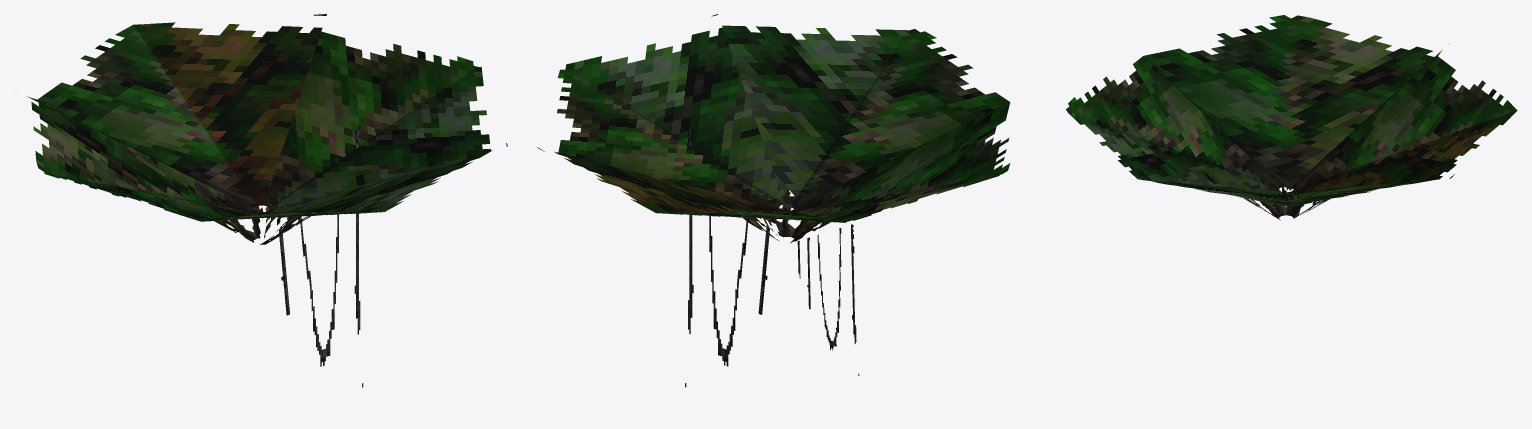
The model's file is secondary_115.glb.
3 renders of one model, left to right at view 1: azimuth 30°, elevation 25°; view 2: azimuth 150°, elevation 25°; view 3: azimuth 270°, elevation 25°, orthographic. The views are drawn at different scales.
Visible parts, largest first — view 1: Object; view 2: Object; view 3: Object.
Part boxes in pixels (x1,y1,x2,y2): Object: (26,14,507,387); Object: (537,14,1010,387); Object: (1066,15,1517,220).
Size of the model in its own units: 13.7 by 8.8 by 13.7.
Materials: 16 (16 with a texture image).
